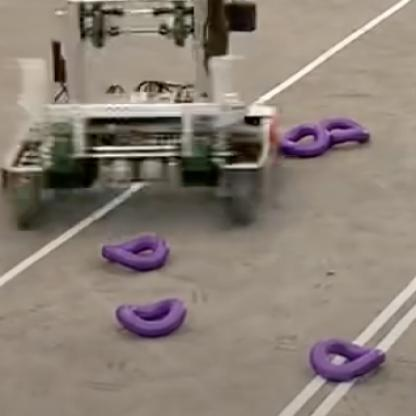ring: (306, 336, 385, 380), (99, 232, 169, 270), (115, 298, 185, 335), (278, 122, 328, 157), (318, 116, 370, 146)
